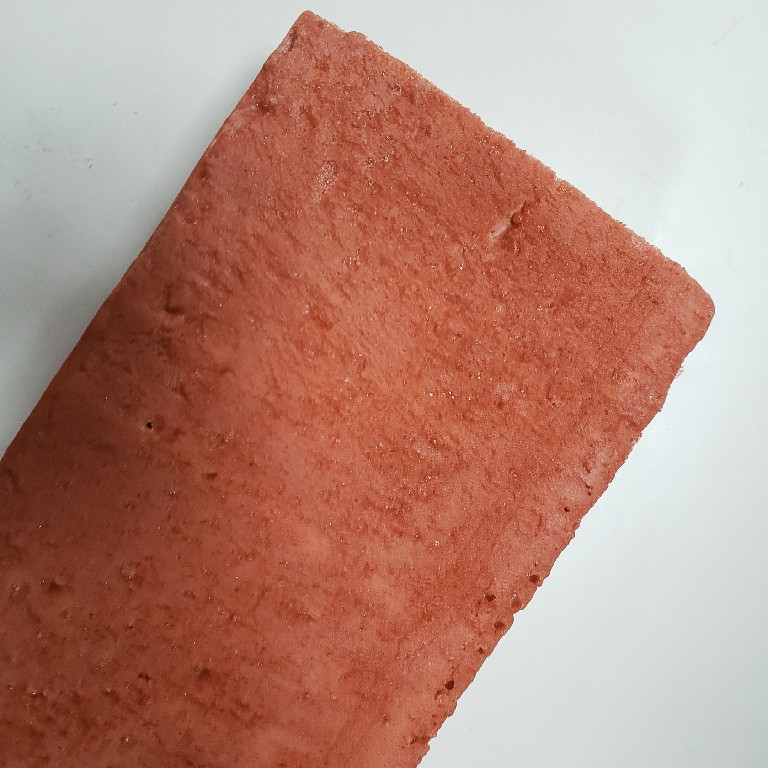brick: (1, 7, 720, 768)
